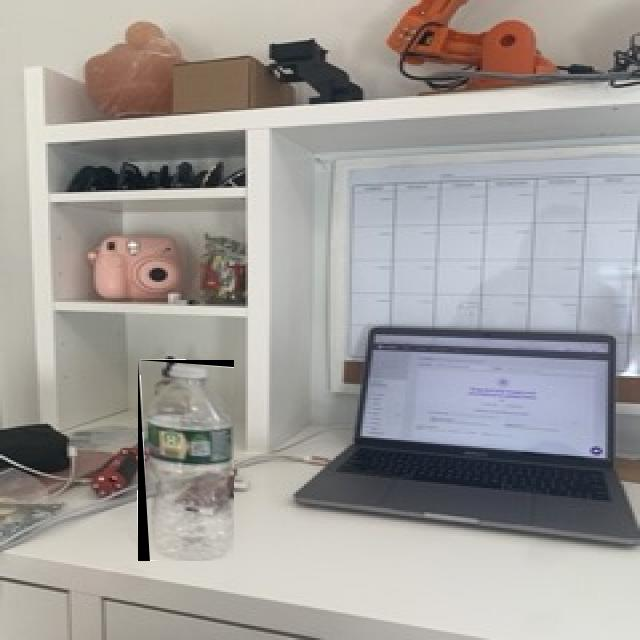water_bottle: (138, 360, 234, 561)
